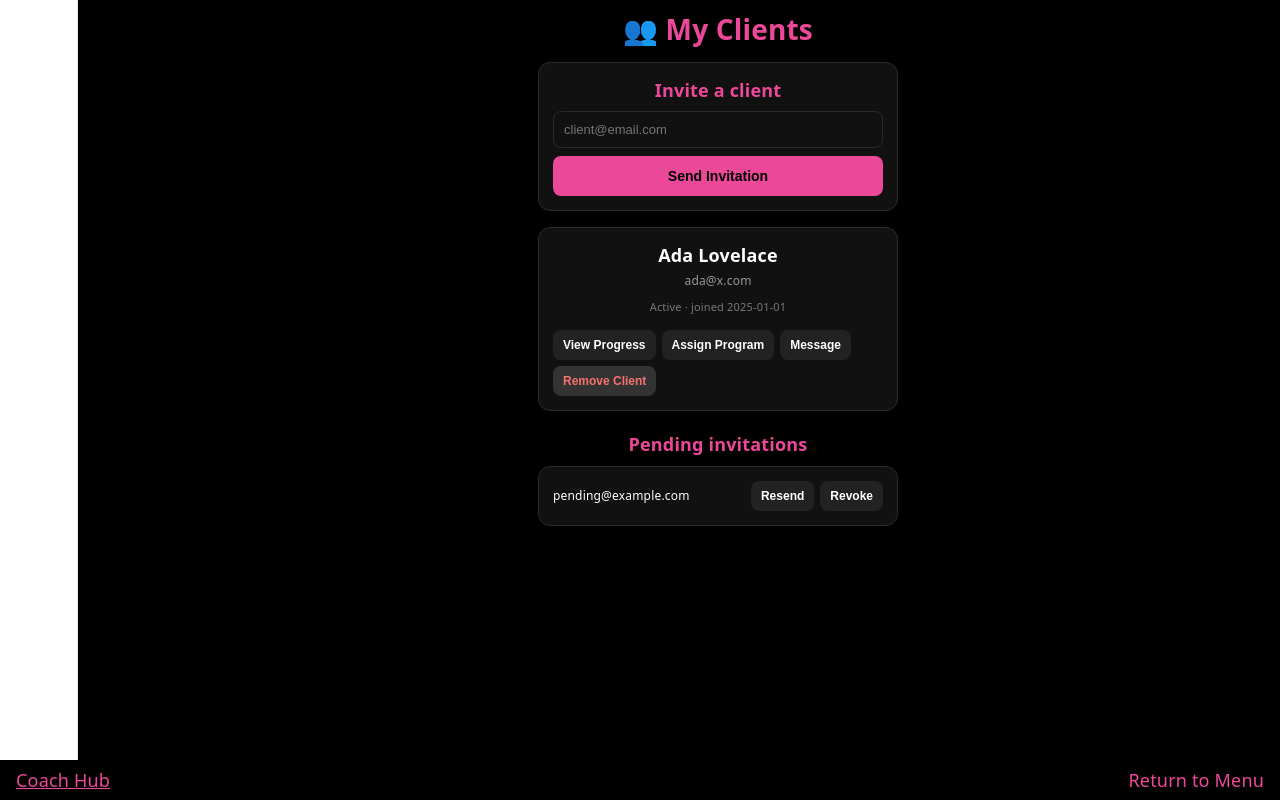
Test: Client invitation resend › resends a pending invitation through the token-free email flow
This screenshot has width=1280, height=800.
Click the button "Resend": coordinates (783, 496) [751,481,814,511]
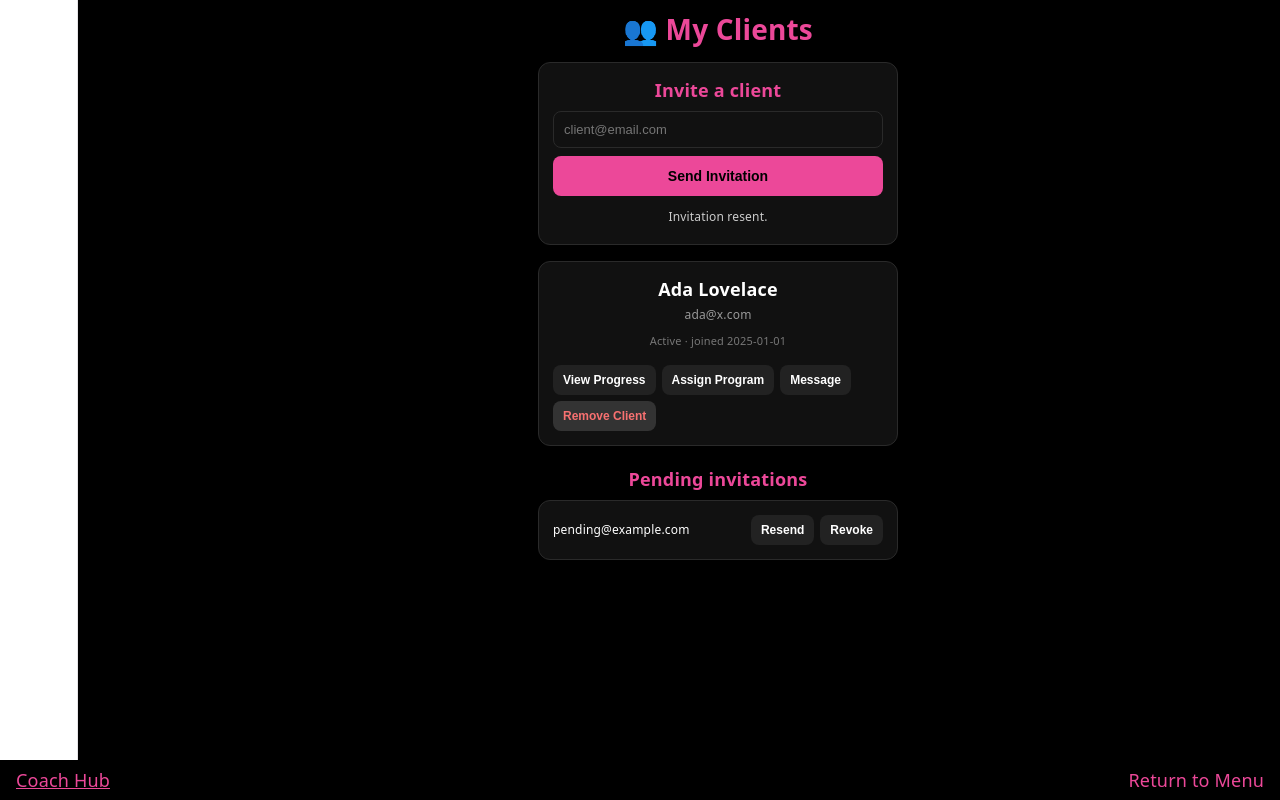
Result: the text "Invitation resent." is shown at [668,208,768,225]
